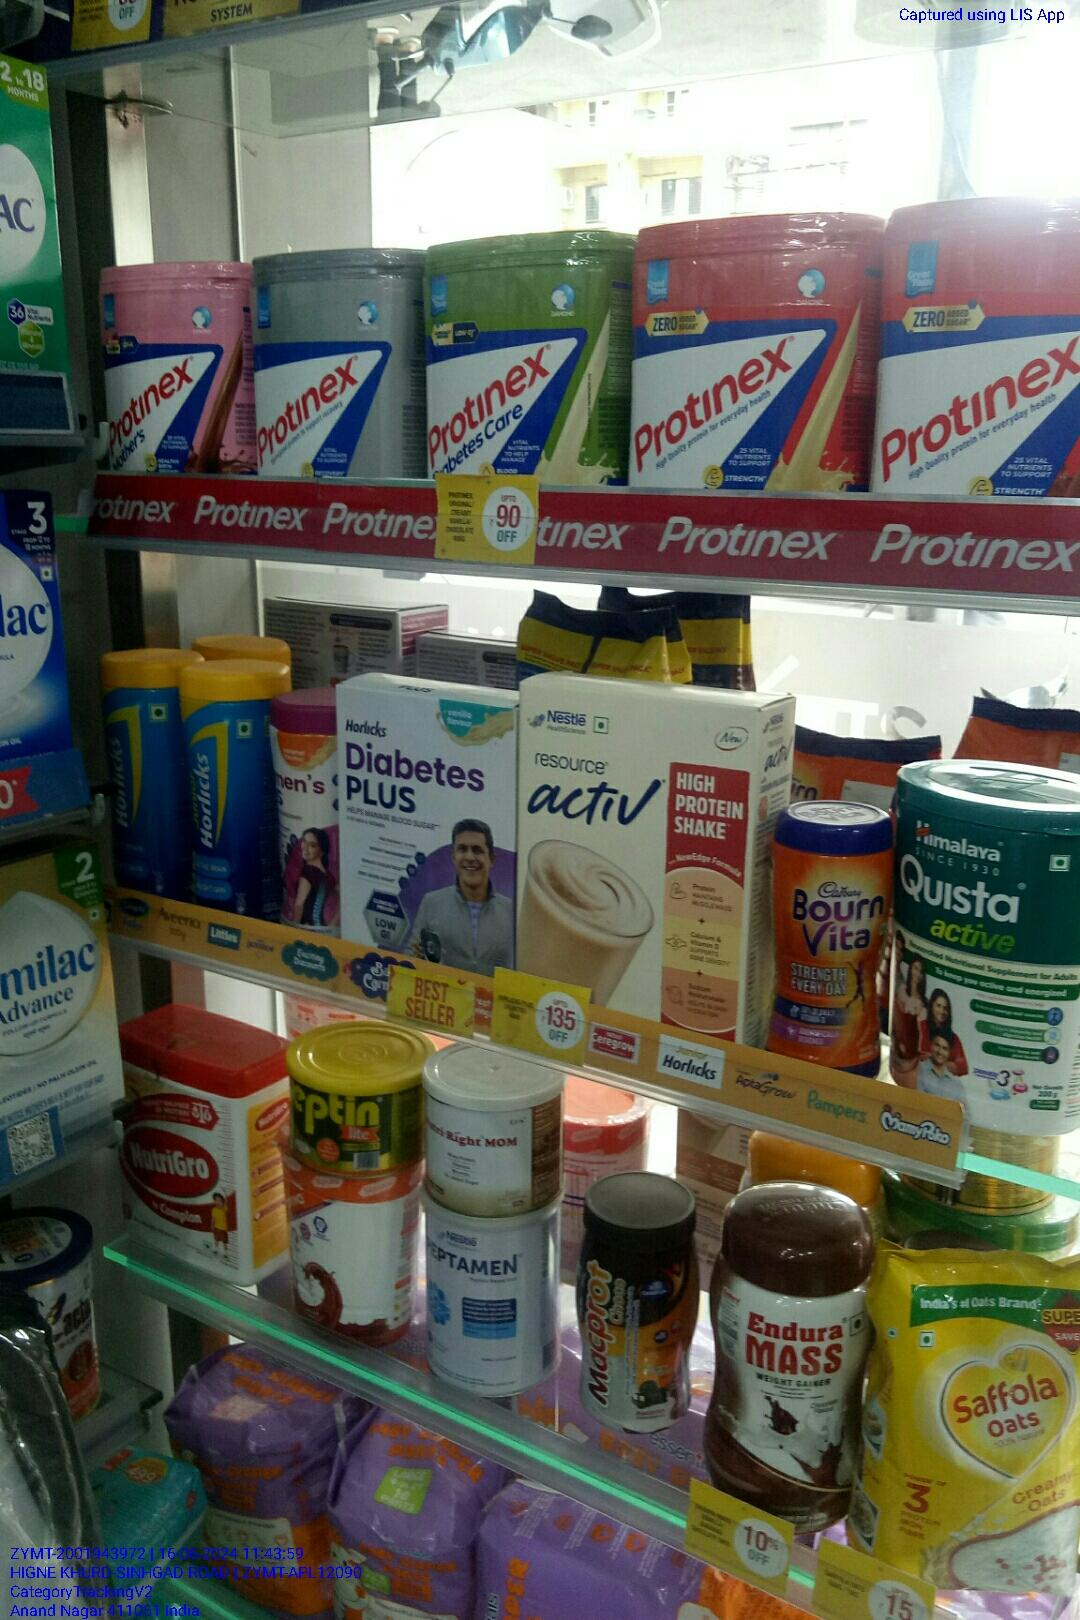PROTINEX_ORIGINAL_400_G_JAR: (252, 228, 407, 477)
PROTINEX_VANILLA_400_G_JAR: (627, 212, 875, 492)
